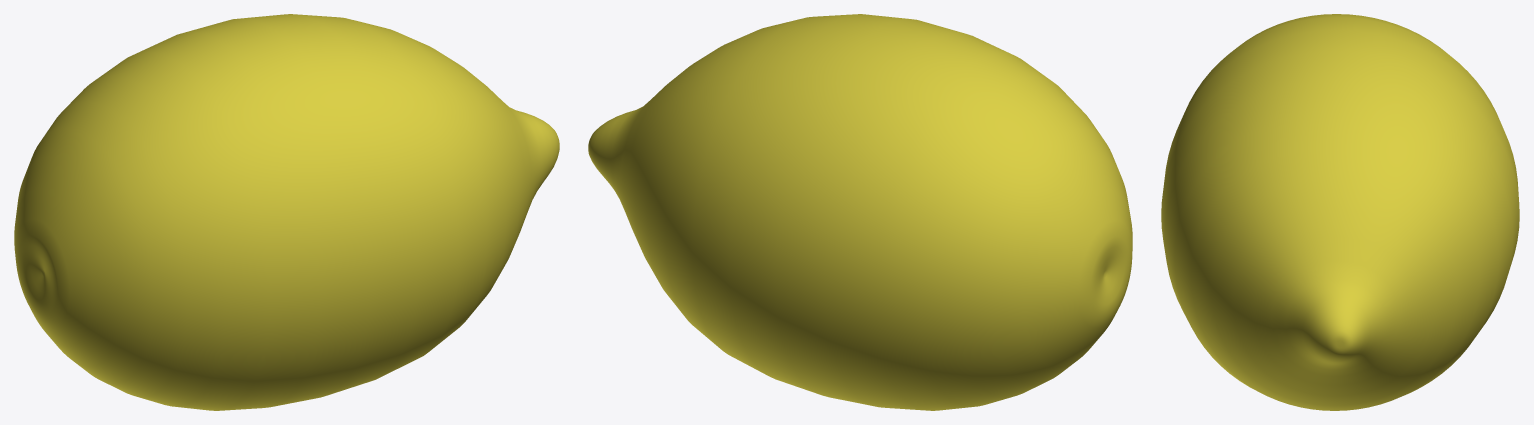
The model's file is LemonPeel.obj.
3 renders of one model, left to right at view 1: azimuth 30°, elevation 25°; view 2: azimuth 150°, elevation 25°; view 3: azimuth 270°, elevation 25°, orthographic. The views are drawn at different scales.
Parts seen in each view (by area): view 1: LemonPeel; view 2: LemonPeel; view 3: LemonPeel.
Boxes of the visible parts, box(x1,y1,x2,y2) form: LemonPeel: box(14, 14, 559, 410); LemonPeel: box(588, 14, 1132, 410); LemonPeel: box(1161, 14, 1519, 410).
Bounding box in the file's own units: 0.0895 × 0.0582 × 0.0577.
